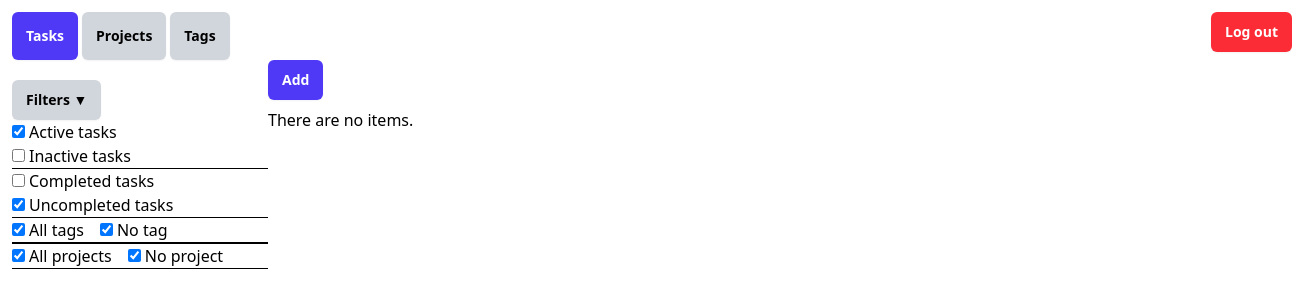
Test: MainView › shows task view after switching back from project view
Click the button "Projects" at coordinates (124, 36), box [82,12,166,60]
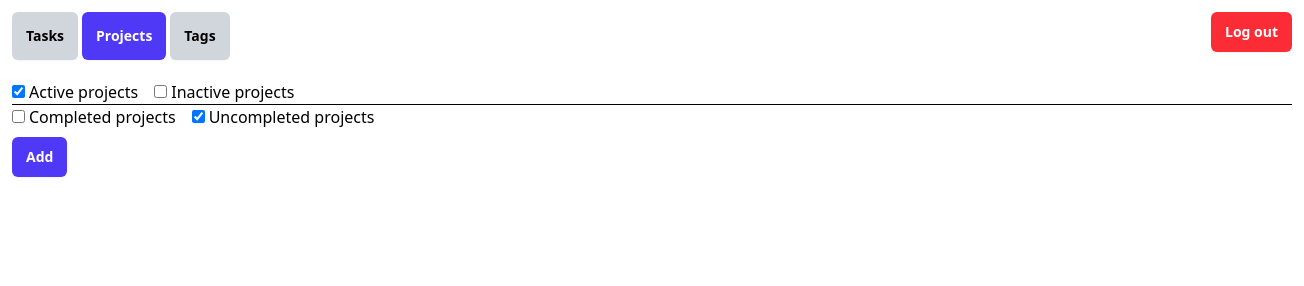
Click the button "Tasks" at coordinates (45, 36), box [12,12,78,60]
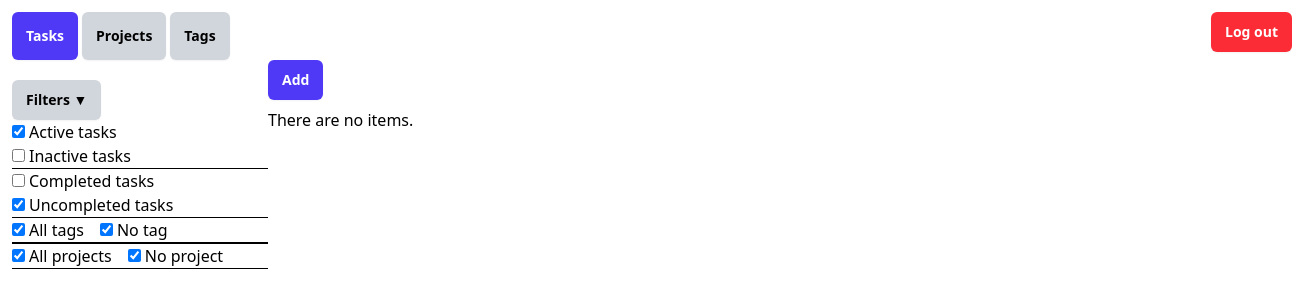
Expected: the element with test id "task-view" is shown, [12,60,413,267]
Expected: the element with test id "project-view" is gone
